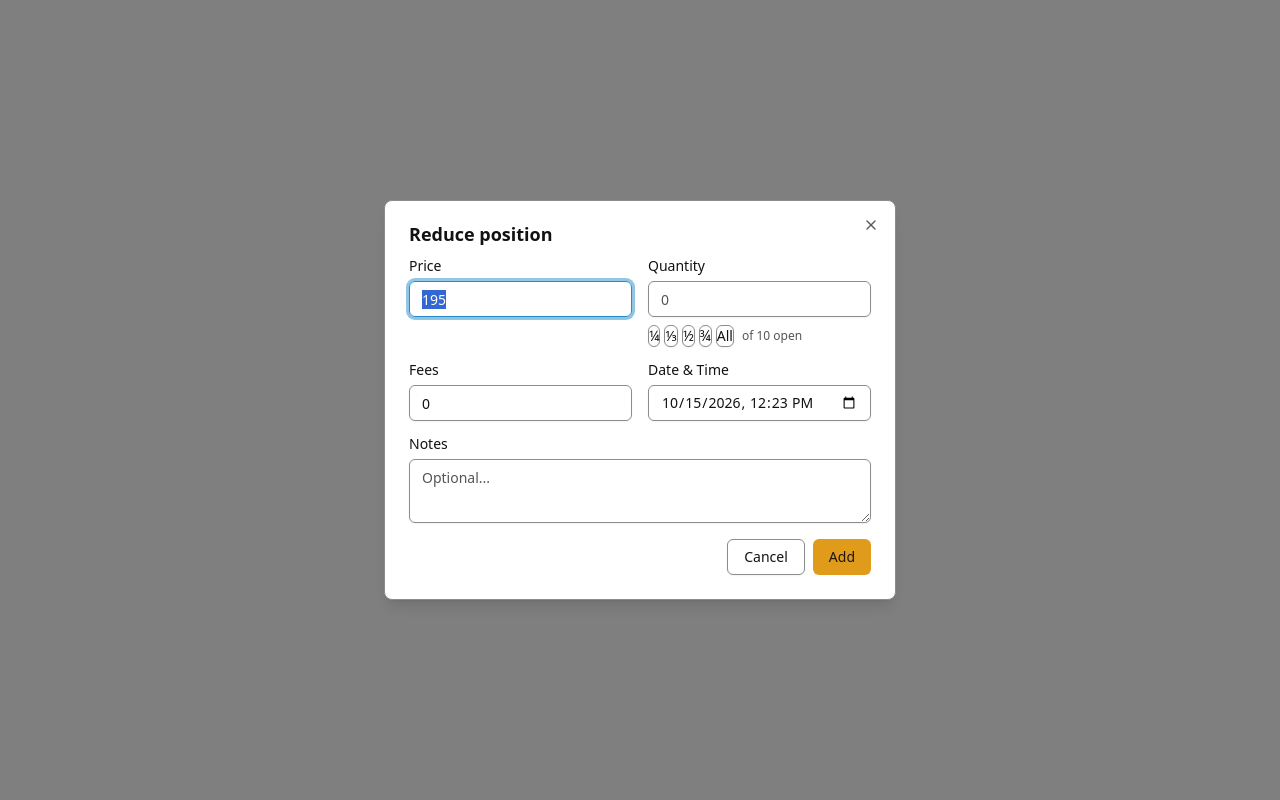
Test: FillDialog — quantity presets › rounds a preset down so it cannot exceed the open size
This screenshot has width=1280, height=800.
Click the button "⅓" at (671, 336), box [664,325,678,347]
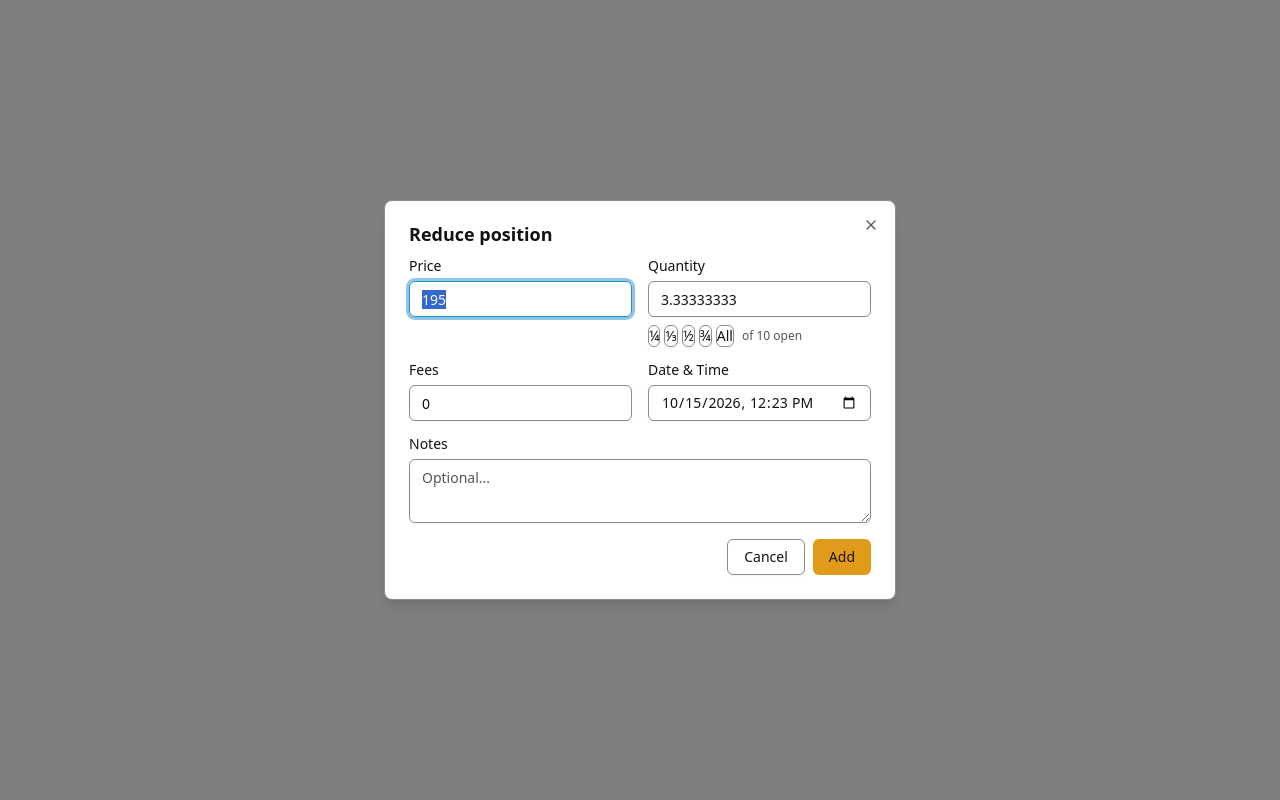
Expected: the field labelled "Quantity" holds "3.33333333", [648,281,871,317]
